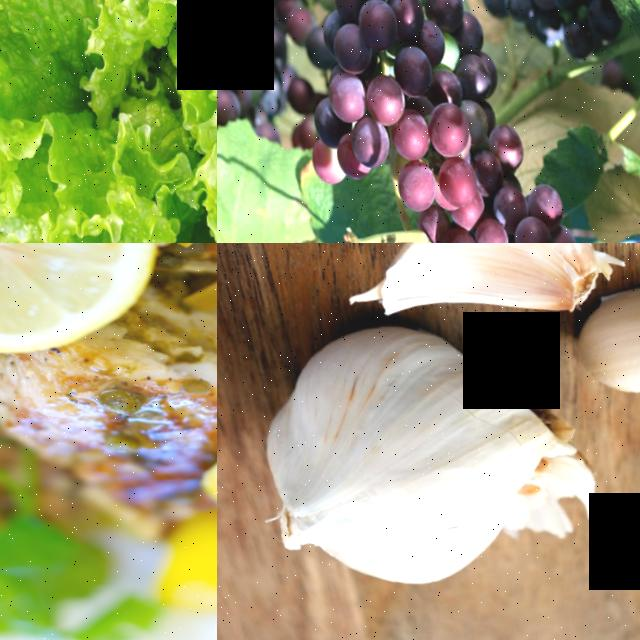garlic: (240, 288, 563, 611), (349, 243, 611, 328), (570, 252, 640, 402)
grapes: (283, 0, 537, 221)
lemon: (0, 243, 156, 378)
lettuce: (0, 0, 217, 243)
